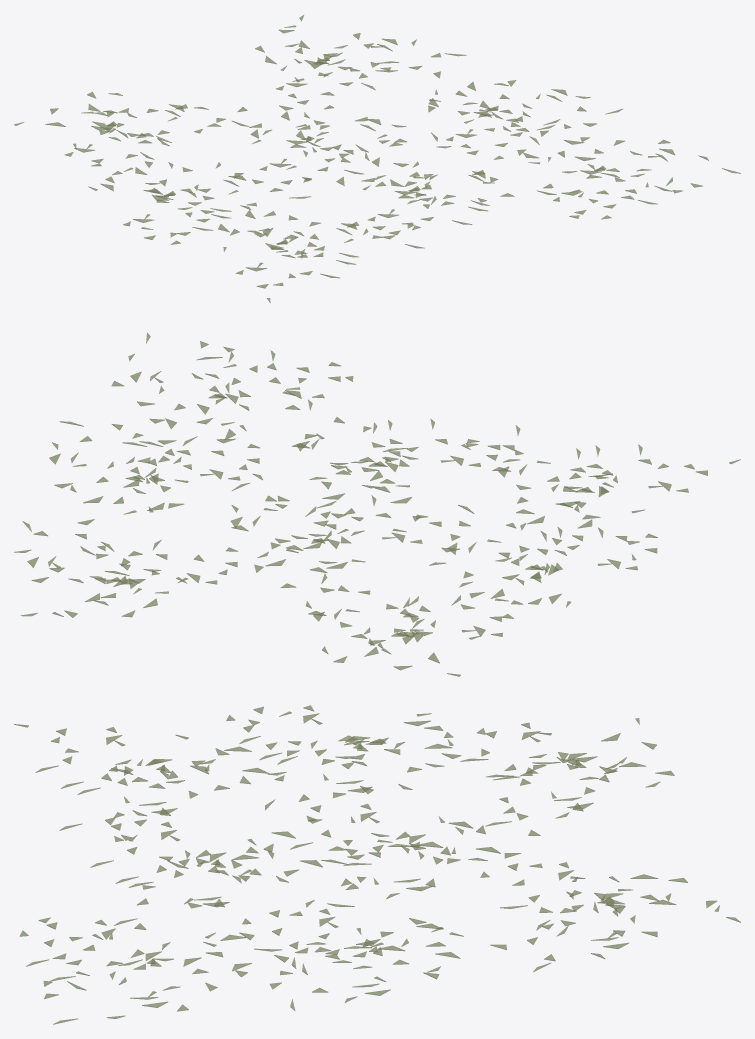
The model's file is Glass Shard.fbx.
The picture shows the model from 3 angles, top to bottom: view 1: azimuth 30°, elevation 25°; view 2: azimuth 150°, elevation 25°; view 3: azimuth 270°, elevation 25°; orthographic projection. The views are drawn at different scales.
Visible parts, largest first — view 1: Glass shards; view 2: Glass shards; view 3: Glass shards.
Boxes of the visible parts, x1,y1,x2,y2 form: Glass shards: (14,15,740,302); Glass shards: (14,332,740,676); Glass shards: (14,705,740,1024).
Bounding box in the file's own units: 357 × 1.42 × 344.
